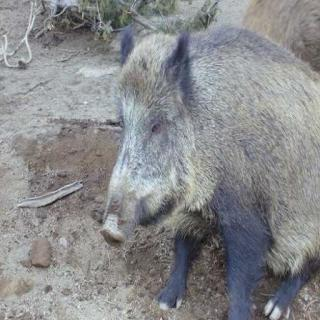Pig: (80, 2, 320, 320)
